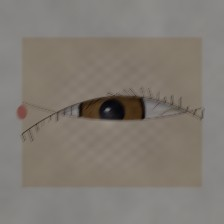pterygium_lesion: (141, 87, 203, 137)
